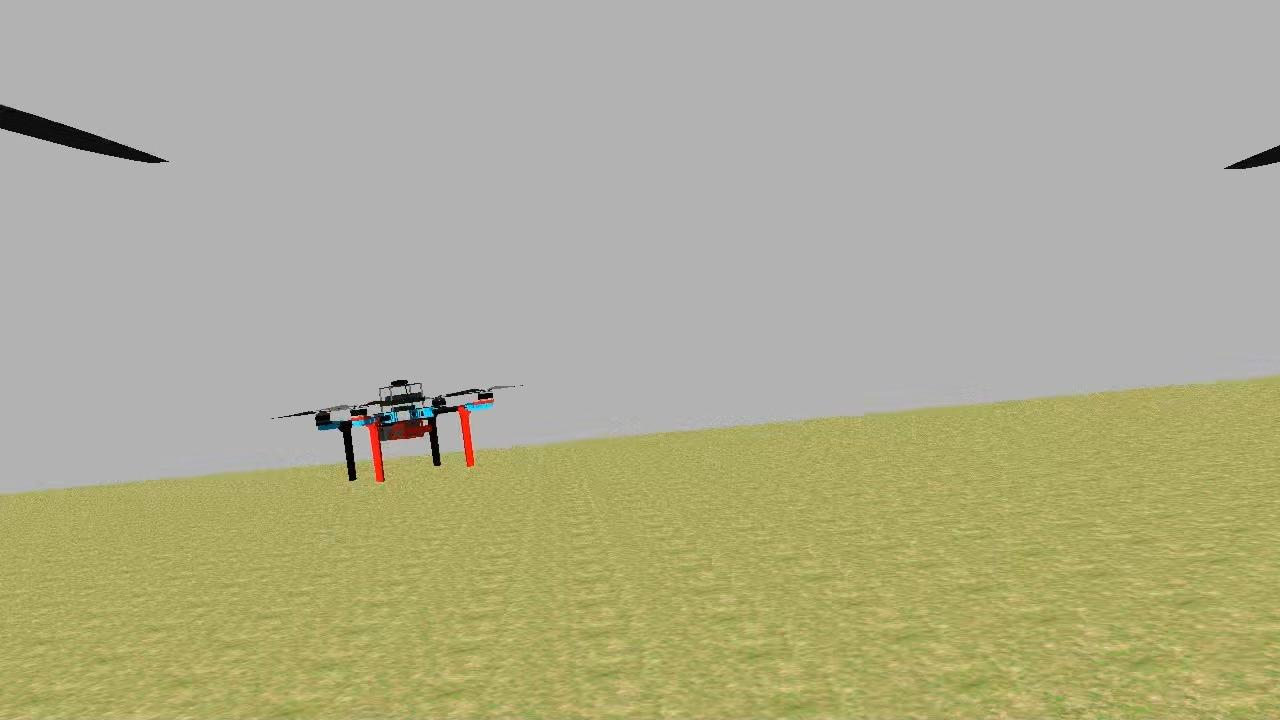UAV: (302, 370, 504, 488)
